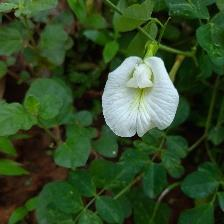shankupushpam: (100, 55, 182, 140)
